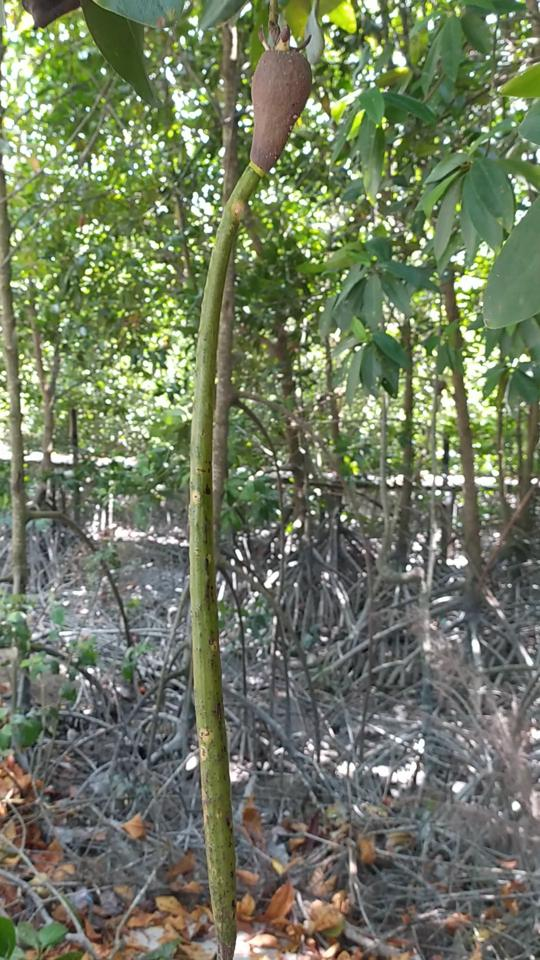setengah matang: (171, 30, 326, 955)
